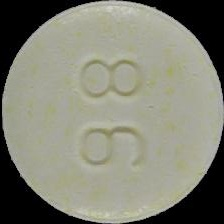50268-615: (0, 0, 224, 224)
